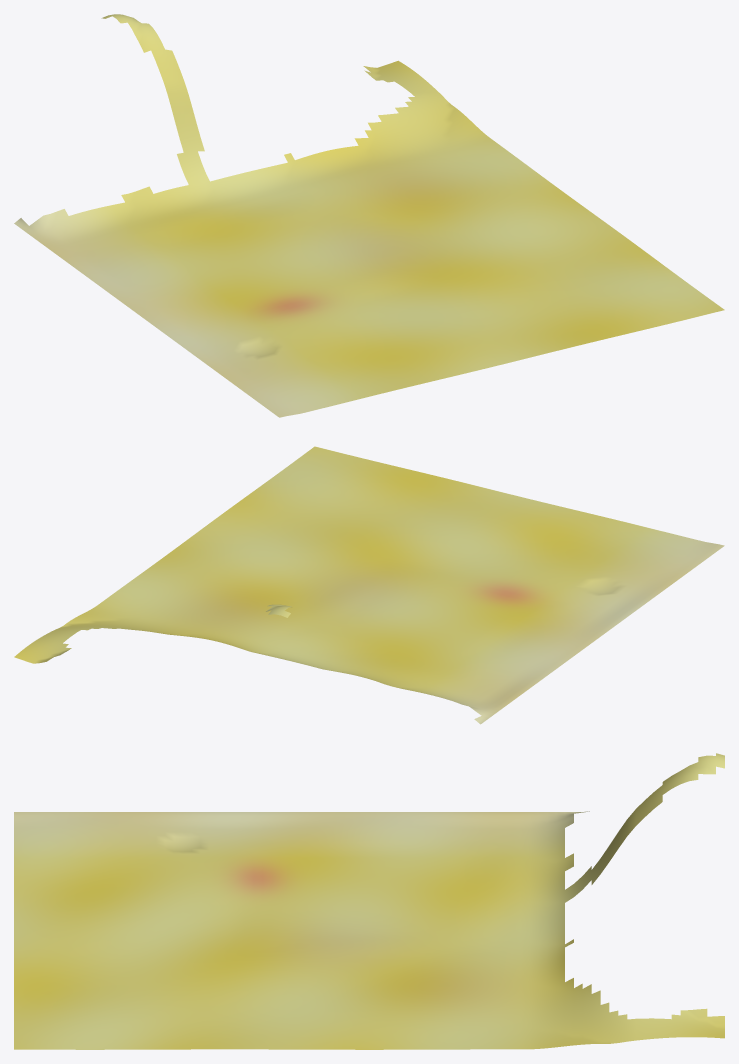
File: sanctuary-terrain.gltf
3 renders of one model, top to bottom at view 1: azimuth 30°, elevation 25°; view 2: azimuth 150°, elevation 25°; view 3: azimuth 270°, elevation 25°, orthographic. The views are drawn at different scales.
Bounding box in the file's own units: 126 × 35.53 × 160.
